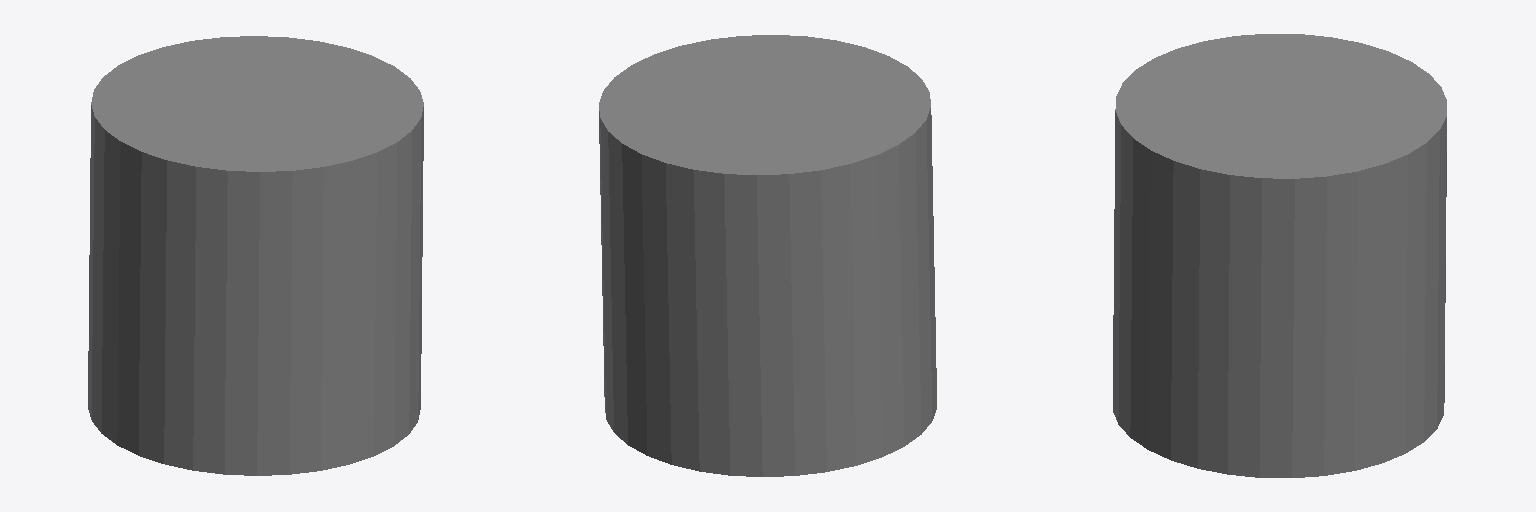
Rendered from ToiletPaper.obj.
3 views of the same model, side by side, from view 1: azimuth 30°, elevation 25°; view 2: azimuth 150°, elevation 25°; view 3: azimuth 270°, elevation 25° (orthographic).
Parts seen in each view (by area): view 1: Cylinder; view 2: Cylinder; view 3: Cylinder.
Part boxes in pixels (bbox=[...]): Cylinder: bbox=[88, 36, 423, 475]; Cylinder: bbox=[599, 35, 936, 476]; Cylinder: bbox=[1113, 34, 1446, 477].
Size of the model in its own units: 5.32 by 5.35 by 5.28.